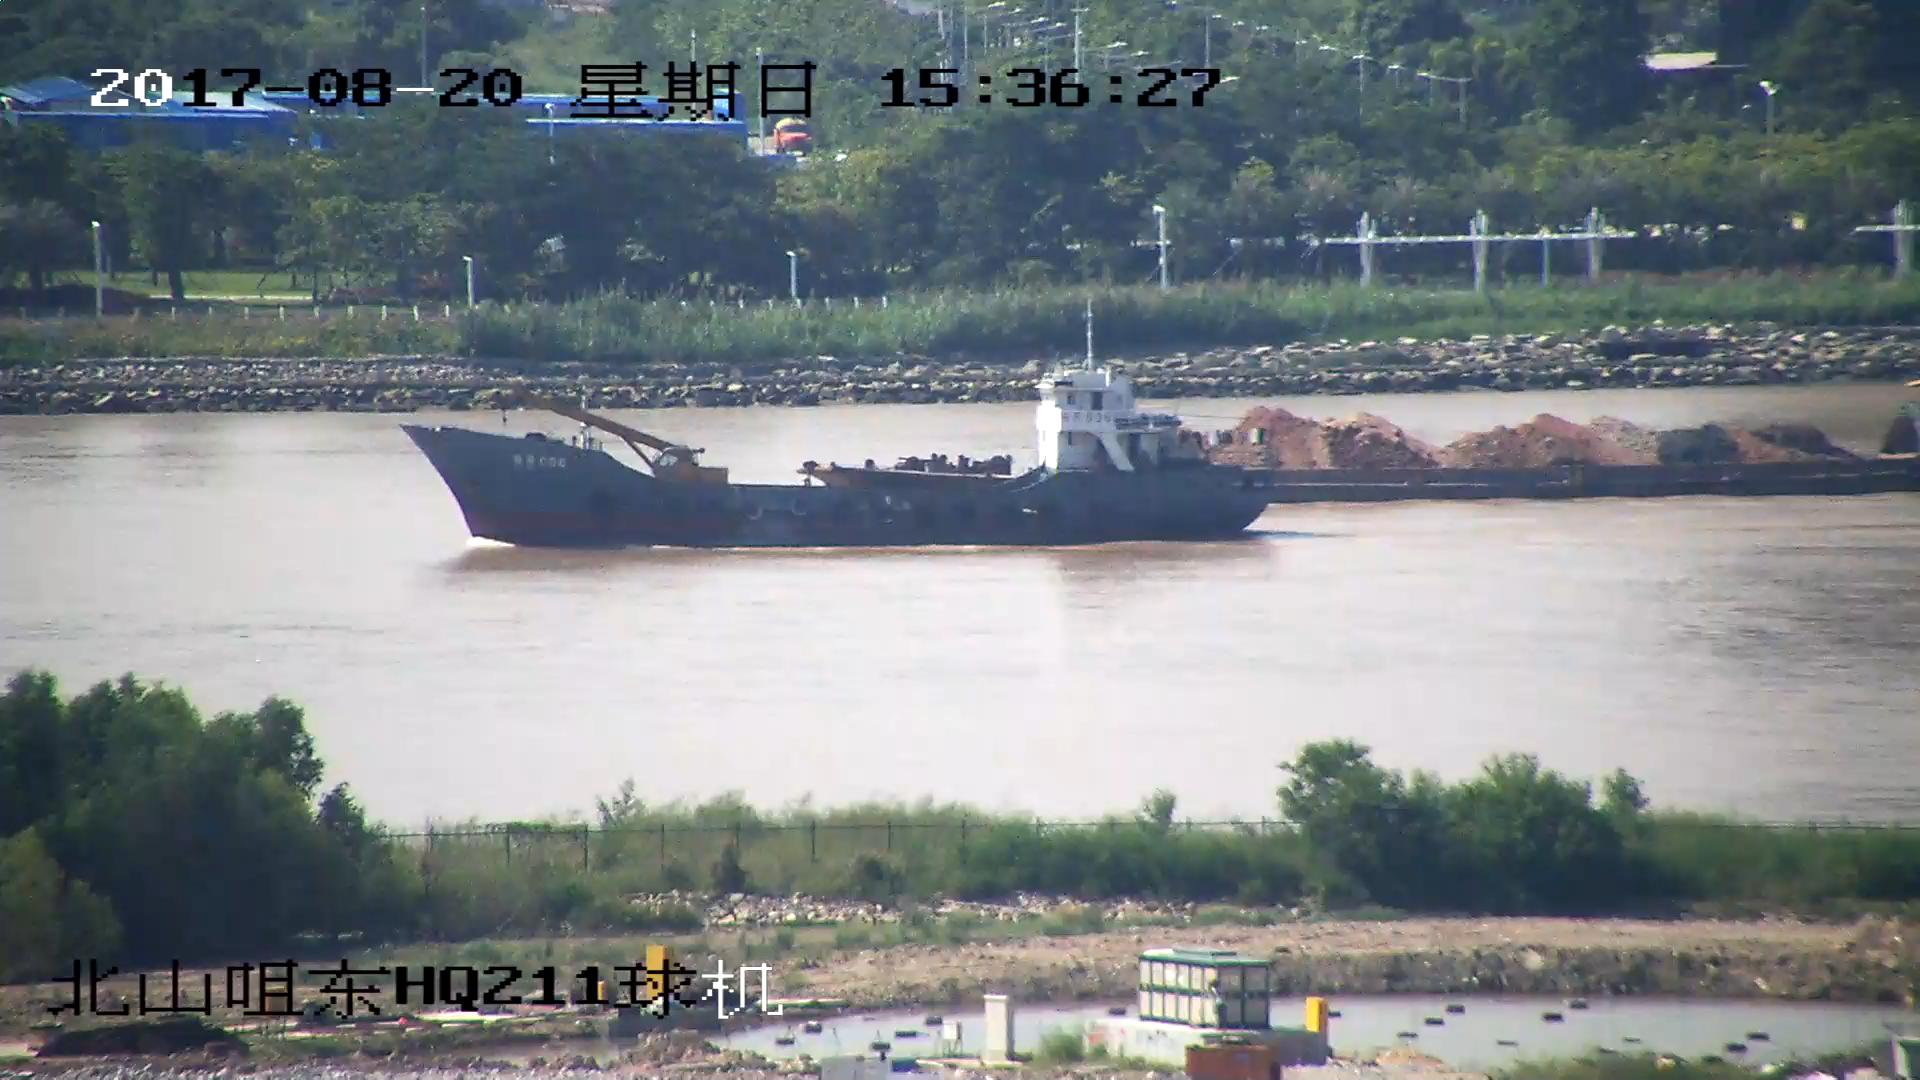general cargo ship: (408, 256, 1261, 541)
ore carrier: (797, 388, 1920, 497)
